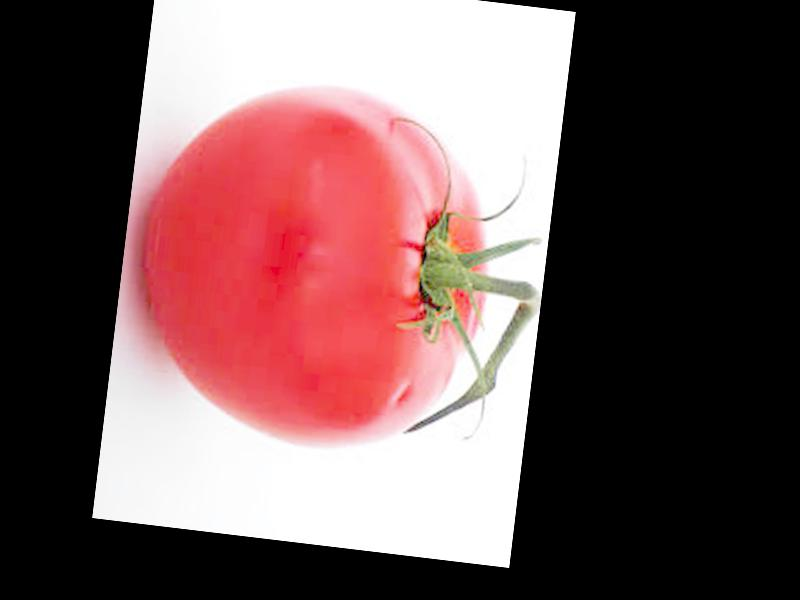Tomato: (121, 62, 506, 461)
